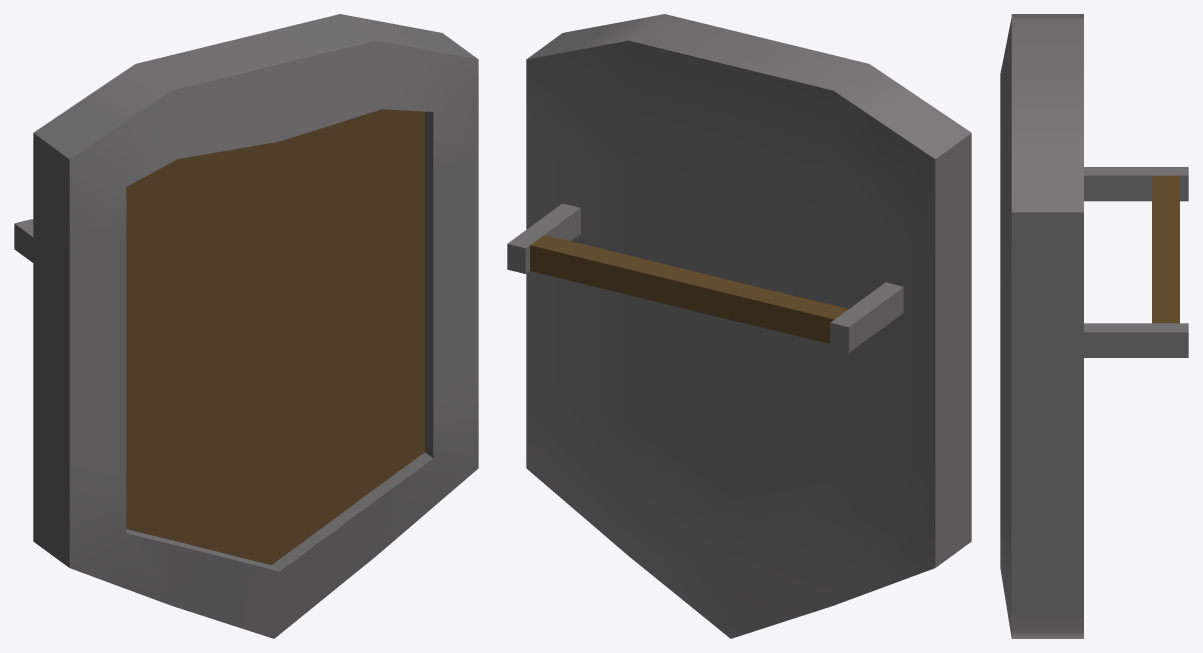
Rendered from PocketShield.fbx.
3 renders of one model, left to right at view 1: azimuth 30°, elevation 25°; view 2: azimuth 150°, elevation 25°; view 3: azimuth 270°, elevation 25°, orthographic.
Parts seen in each view (by area): view 1: PocketShield; view 2: PocketShield; view 3: PocketShield.
Part boxes in pixels (bbox=[...]): PocketShield: bbox=[14, 14, 478, 638]; PocketShield: bbox=[507, 14, 971, 638]; PocketShield: bbox=[1000, 14, 1188, 638].
Size of the model in its own units: 2.95 by 3.96 by 1.19.
